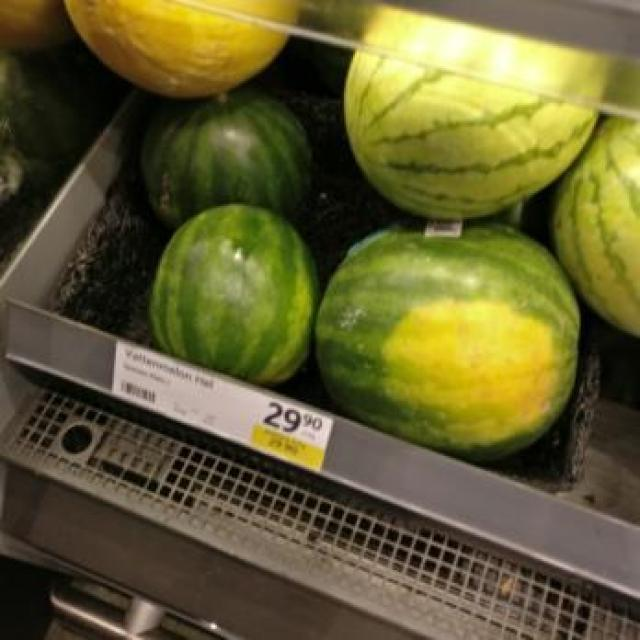Watermelon: (316, 221, 580, 458), (348, 9, 612, 215), (149, 200, 316, 382), (147, 88, 316, 217), (556, 112, 638, 344)
